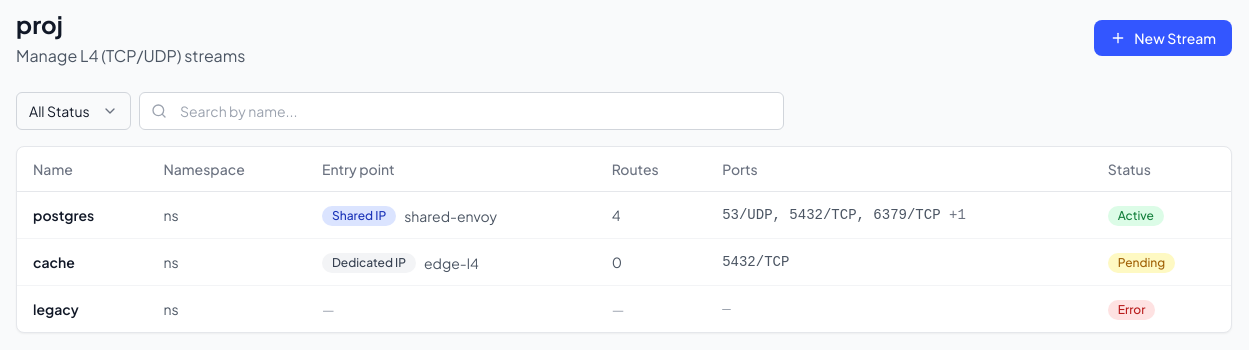
Test: filters by status on the client
Expected: the link "postgres" is shown, [33, 206, 94, 224]
Select "Error" in the dropdown named "Status filter": x=74, y=111 [16, 92, 131, 130]
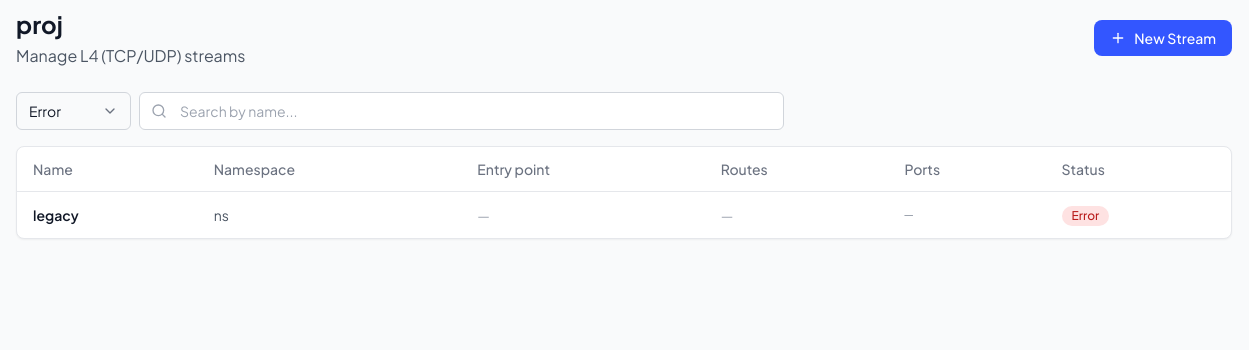
Expected: the link "legacy" is shown, [33, 206, 79, 224]
Result: the link "postgres" is gone
